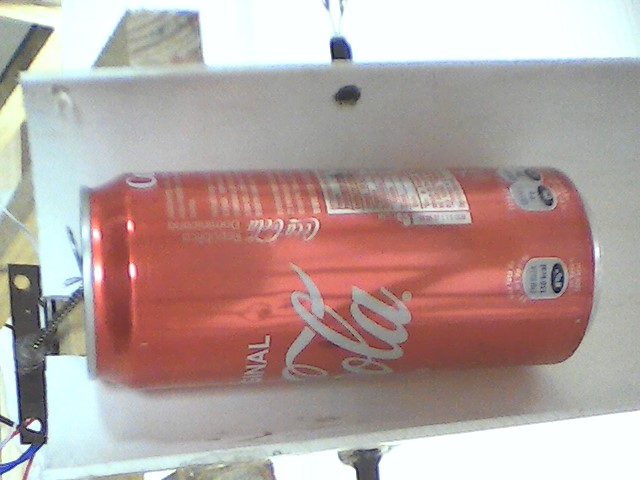lata: (64, 159, 607, 395)
